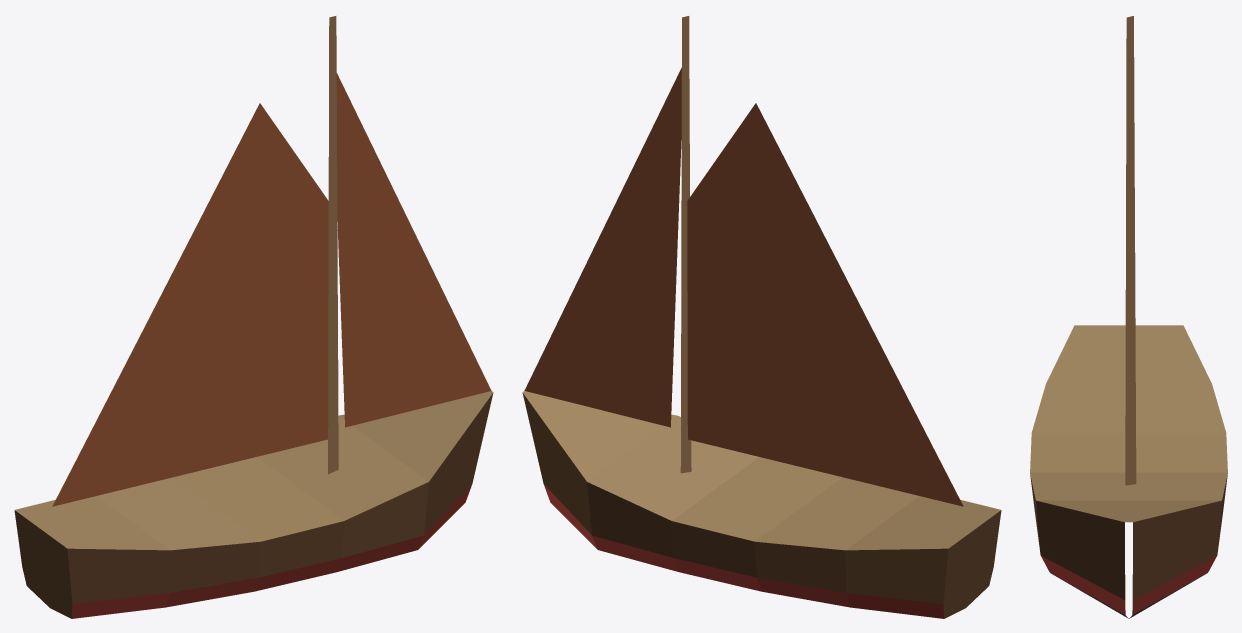
The model's file is hull_eur_botter_large_lod.glb.
The picture shows the model from 3 angles, left to right: view 1: azimuth 30°, elevation 25°; view 2: azimuth 150°, elevation 25°; view 3: azimuth 270°, elevation 25°; orthographic projection. The views are drawn at different scales.
Parts seen in each view (by area): view 1: lod; view 2: lod; view 3: lod.
Part boxes in pixels (box(x1,y1,x2,y2)): lod: box(14, 16, 493, 618); lod: box(522, 16, 1001, 618); lod: box(1030, 16, 1227, 618).
Bounding box in the file's own units: 18 × 20.56 × 6.66.
